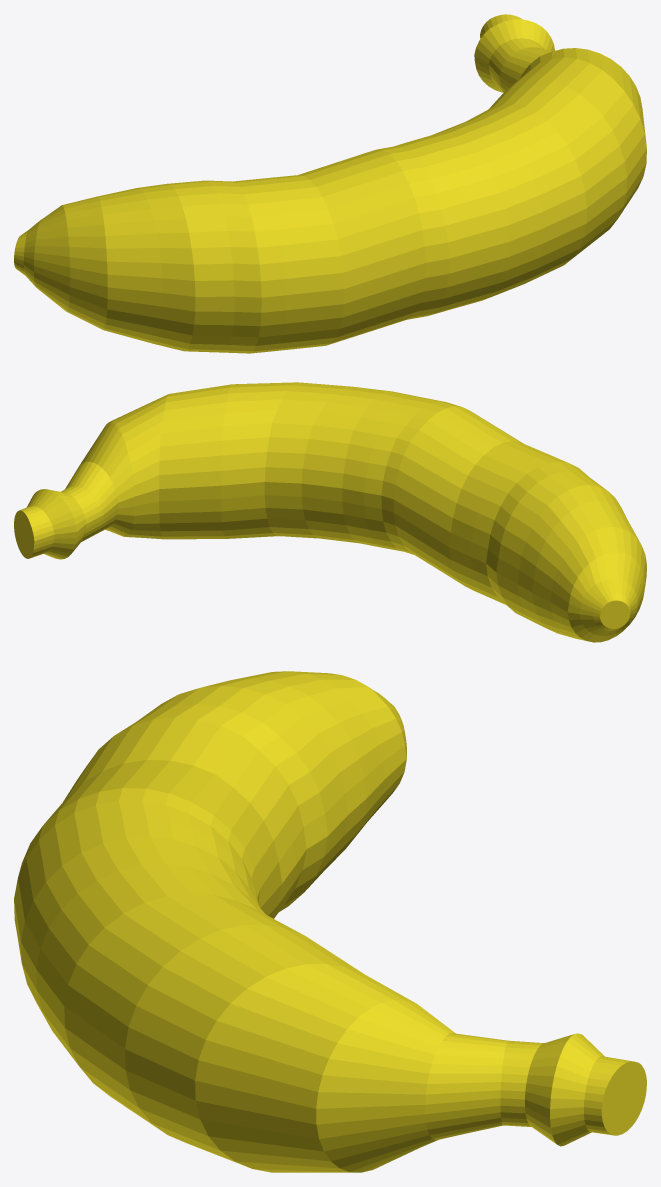
The model's file is banana.fbx.
3 renders of one model, top to bottom at view 1: azimuth 30°, elevation 25°; view 2: azimuth 150°, elevation 25°; view 3: azimuth 270°, elevation 25°, orthographic. The views are drawn at different scales.
Parts seen in each view (by area): view 1: Cylinder; view 2: Cylinder; view 3: Cylinder.
Boxes of the visible parts, <box> form: Cylinder: <box>14,14,646,353</box>; Cylinder: <box>14,382,646,642</box>; Cylinder: <box>14,671,646,1172</box>.
Size of the model in its own units: 898 by 241 by 578.
